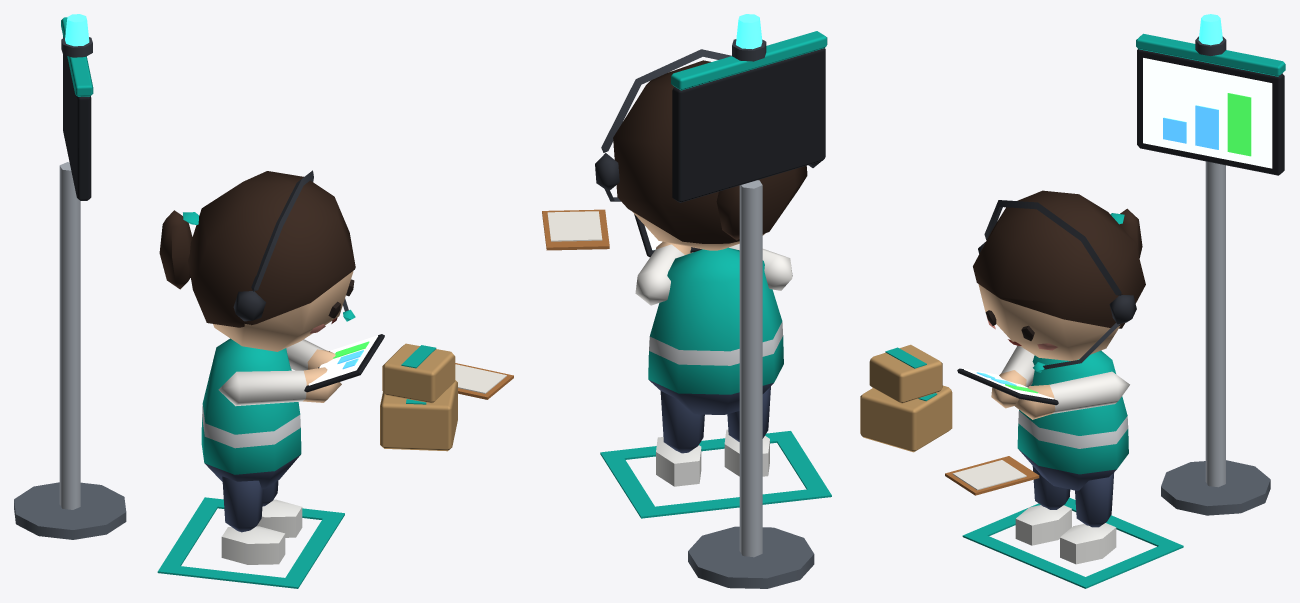
The model's file is station_processing_ausstattung_1_3.glb.
3 views of the same model, side by side, from view 1: azimuth 30°, elevation 25°; view 2: azimuth 150°, elevation 25°; view 3: azimuth 270°, elevation 25° (orthographic). The views are drawn at different scales.
Parts seen in each view (by area): view 1: station_processing_ausstattung_1_3; view 2: station_processing_ausstattung_1_3; view 3: station_processing_ausstattung_1_3.
Part boxes in pixels (x1,y1,x2,y2): station_processing_ausstattung_1_3: [14, 14, 513, 588]; station_processing_ausstattung_1_3: [542, 14, 831, 588]; station_processing_ausstattung_1_3: [860, 14, 1285, 588].
Bounding box in the file's own units: 1.17 × 1.51 × 1.22.
